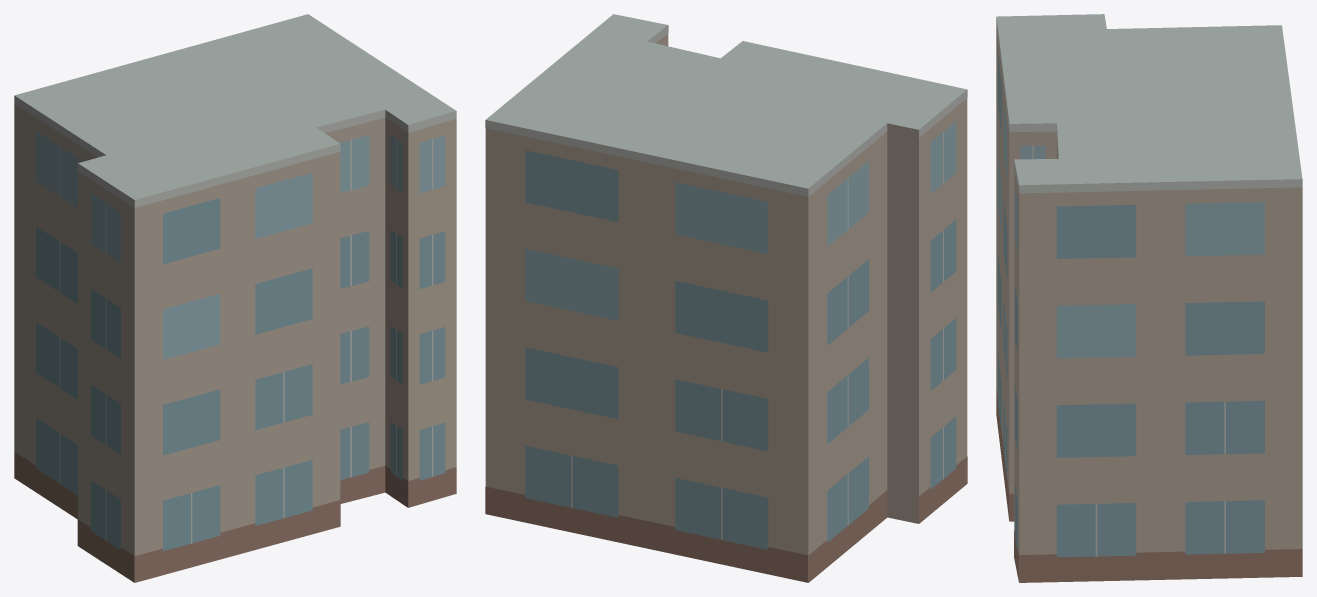
The model's file is survey-upis-32940715.glb.
The picture shows the model from 3 angles, left to right: view 1: azimuth 30°, elevation 25°; view 2: azimuth 150°, elevation 25°; view 3: azimuth 270°, elevation 25°; orthographic projection. The views are drawn at different scales.
Parts seen in each view (by area): view 1: survey-upis-32940715.tmp; view 2: survey-upis-32940715.tmp; view 3: survey-upis-32940715.tmp.
Part boxes in pixels (left/top/right/bottom): survey-upis-32940715.tmp: left=14, top=14, right=456, bottom=582; survey-upis-32940715.tmp: left=485, top=14, right=967, bottom=582; survey-upis-32940715.tmp: left=996, top=14, right=1302, bottom=582.
Size of the model in its own units: 10.9 by 11.8 by 8.24.
